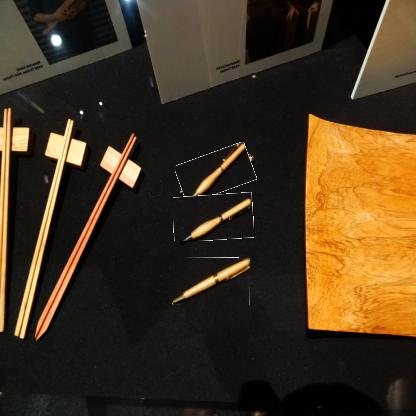Pen: (176, 148, 255, 199), (173, 194, 253, 241), (172, 258, 250, 306)
